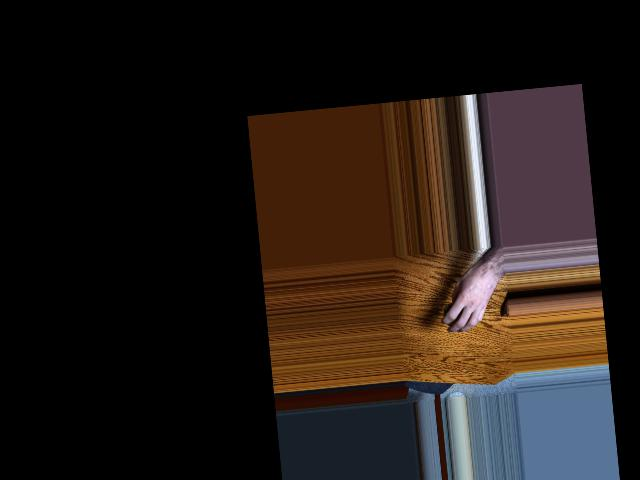onion: (441, 298, 468, 329)
